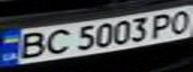0: (112, 18, 136, 46), (93, 20, 115, 48)
3: (127, 15, 154, 43)
5: (72, 22, 96, 52)
B: (9, 29, 51, 61)
C: (39, 27, 72, 56)
O: (163, 7, 193, 35)
P: (145, 10, 181, 38)
